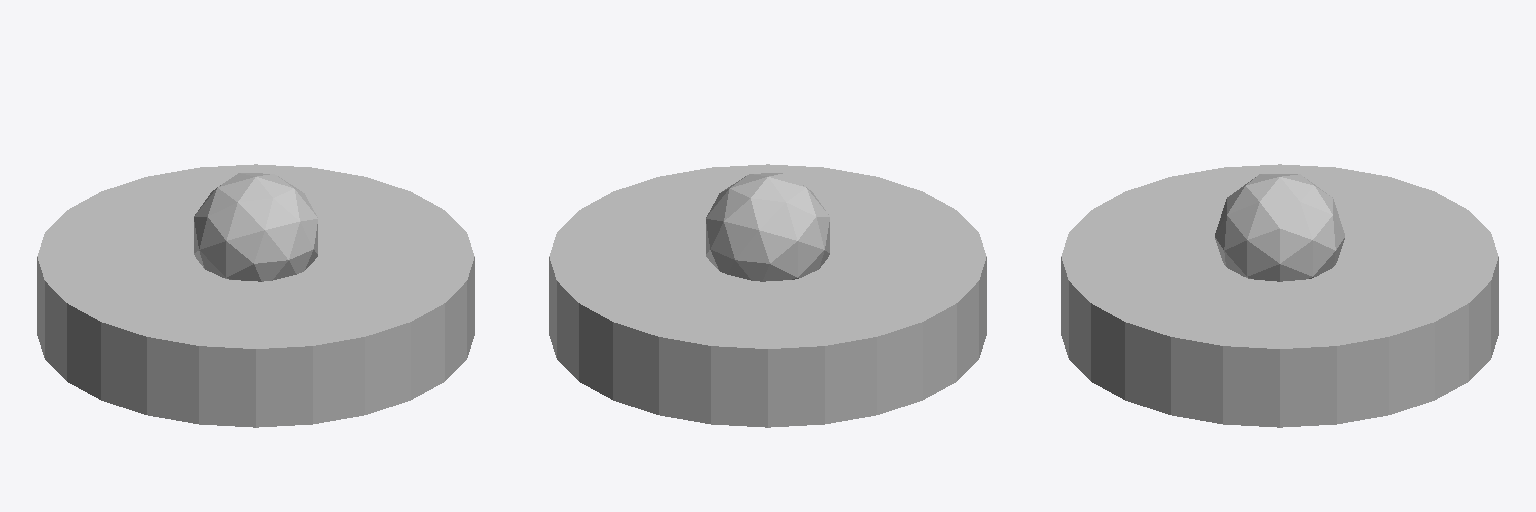
Rendered from gems_ruby_1.obj.
The picture shows the model from 3 angles: view 1: azimuth 30°, elevation 25°; view 2: azimuth 150°, elevation 25°; view 3: azimuth 270°, elevation 25°; orthographic projection.
Visible parts, largest first — view 1: mergedBlocks; view 2: mergedBlocks; view 3: mergedBlocks.
Part boxes in pixels (x1,y1,x2,y2): mergedBlocks: (37,164,474,427); mergedBlocks: (549,164,986,427); mergedBlocks: (1061,164,1498,427).
Bounding box in the file's own units: 1 × 0.4 × 1.